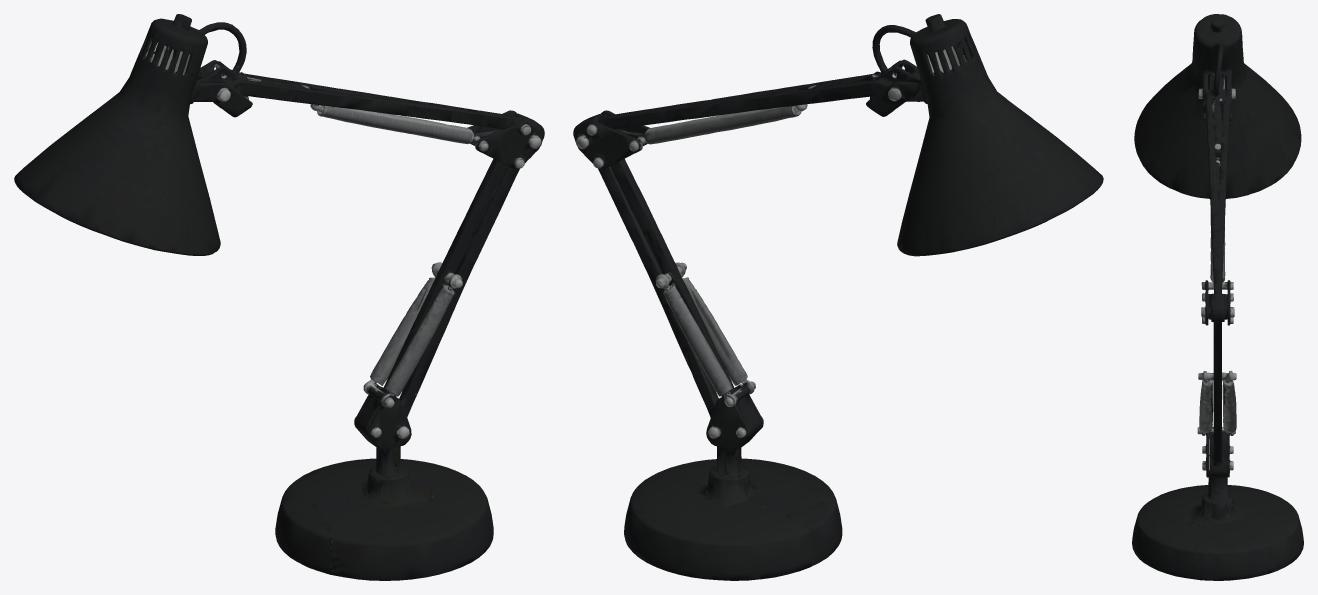
Rendered from desklamp.glb.
3 views of the same model, side by side, from view 1: azimuth 30°, elevation 25°; view 2: azimuth 150°, elevation 25°; view 3: azimuth 270°, elevation 25° (orthographic). The views are drawn at different scales.
Bounding box in the file's own units: 1.79 × 1.9 × 0.6597.
Materials: 1 (1 with a texture image).
